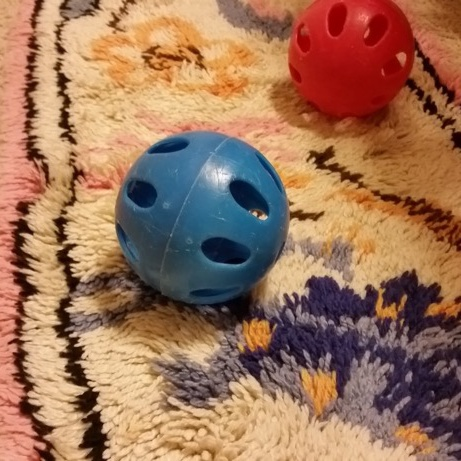ball: (108, 124, 297, 313), (285, 0, 419, 123)
